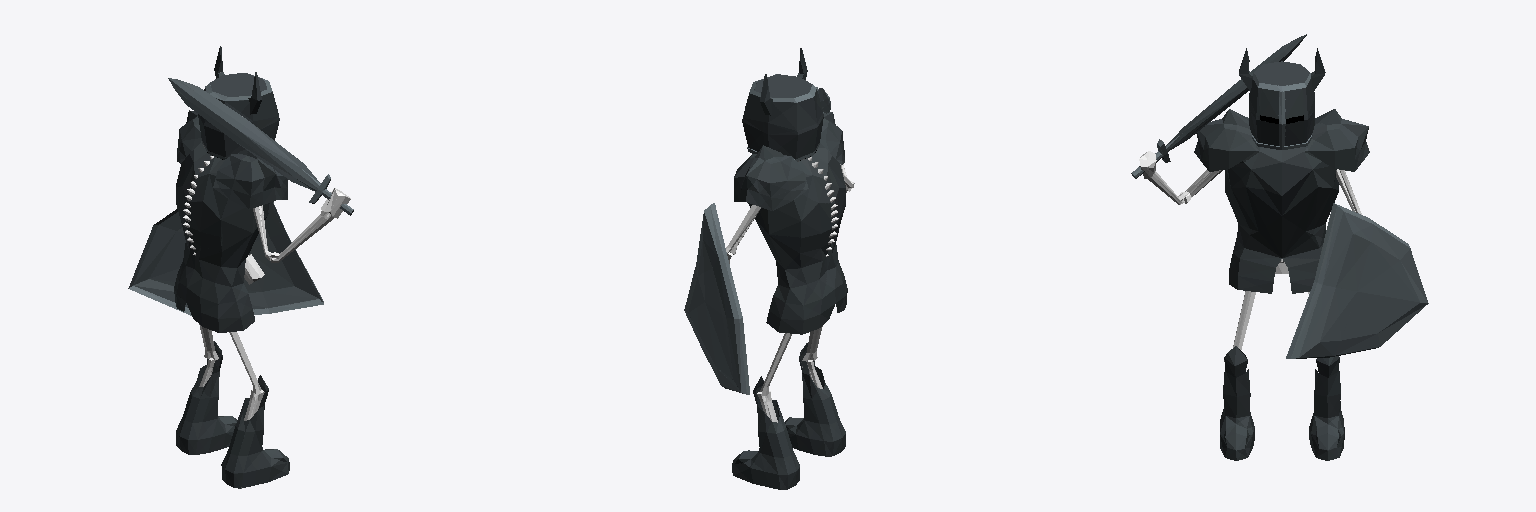
3 renders of one model, left to right at view 1: azimuth 30°, elevation 25°; view 2: azimuth 150°, elevation 25°; view 3: azimuth 270°, elevation 25°, orthographic.
Parts seen in each view (by area): view 1: Cube.003_Cube.005; view 2: Cube.003_Cube.005; view 3: Cube.003_Cube.005.
Part boxes in pixels (bbox=[...]): Cube.003_Cube.005: bbox=[128, 46, 353, 488]; Cube.003_Cube.005: bbox=[684, 48, 854, 489]; Cube.003_Cube.005: bbox=[1131, 34, 1428, 460].
Bounding box in the file's own units: 2.85 × 7.33 × 4.93.
Materials: 1 (1 with a texture image).